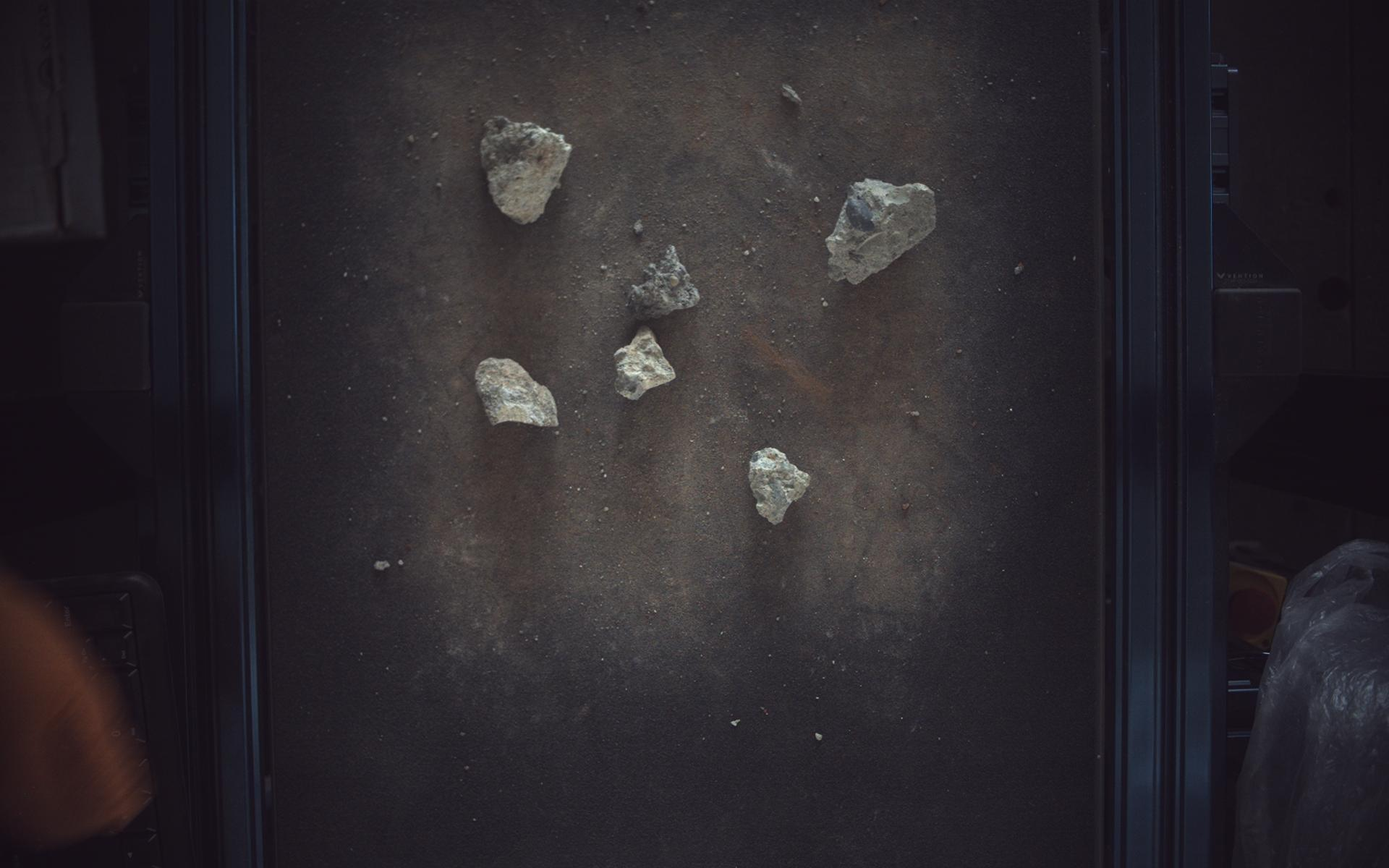concrete: (828, 178, 938, 284), (480, 115, 572, 224), (475, 357, 558, 427), (628, 245, 700, 319), (749, 447, 812, 525), (615, 326, 676, 400)
